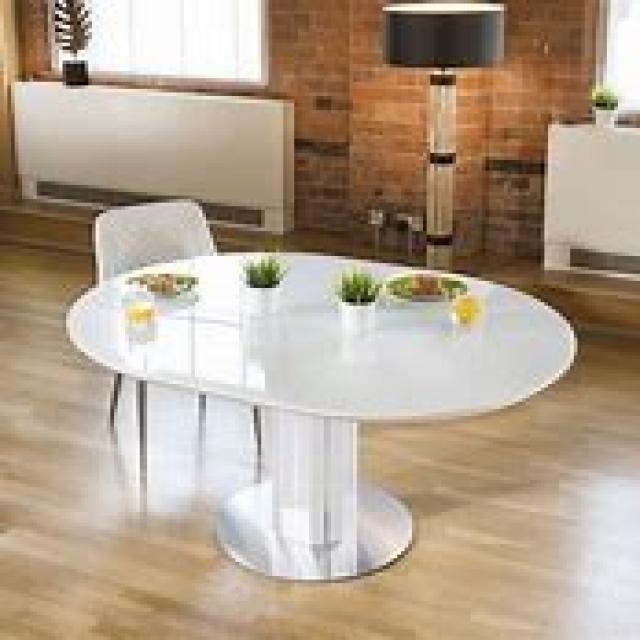chair: (92, 199, 261, 484)
table: (62, 249, 578, 579)
